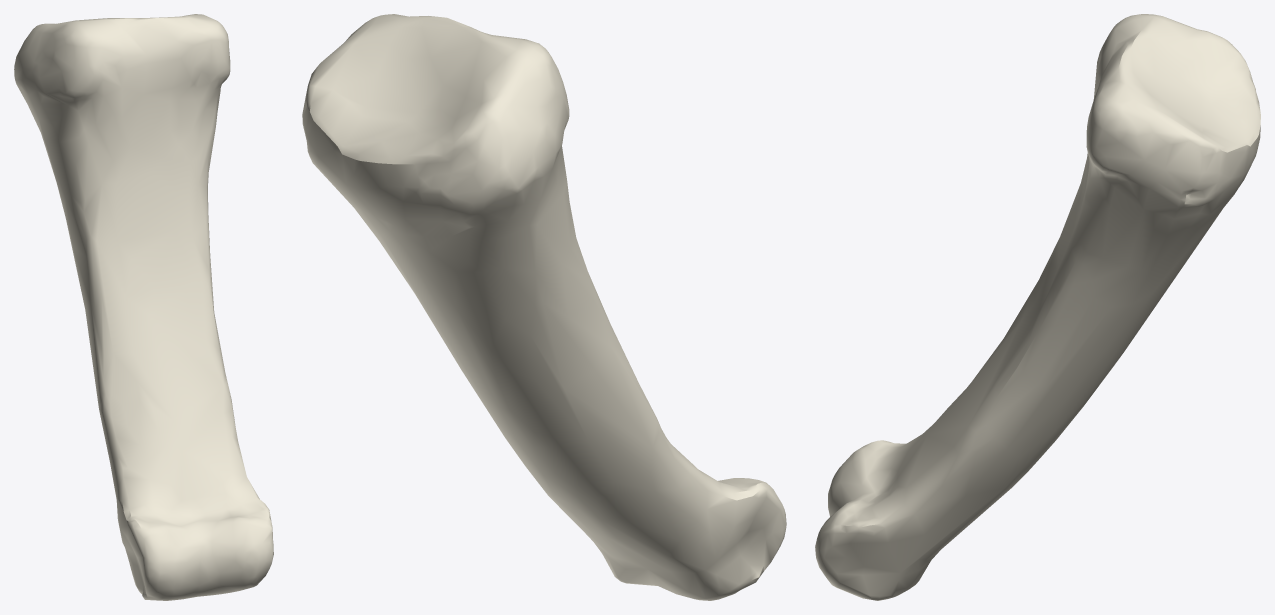
Rendered from fma24452.glb.
3 views of the same model, side by side, from view 1: azimuth 30°, elevation 25°; view 2: azimuth 150°, elevation 25°; view 3: azimuth 270°, elevation 25° (orthographic). The views are drawn at different scales.
Visible parts, largest first — view 1: FMA24452; view 2: FMA24452; view 3: FMA24452.
Boxes of the visible parts, <box> form: FMA24452: <box>14,14,273,600</box>; FMA24452: <box>302,14,786,600</box>; FMA24452: <box>815,14,1260,600</box>.
Bounding box in the file's own units: 0.0184 × 0.0408 × 0.0293.
